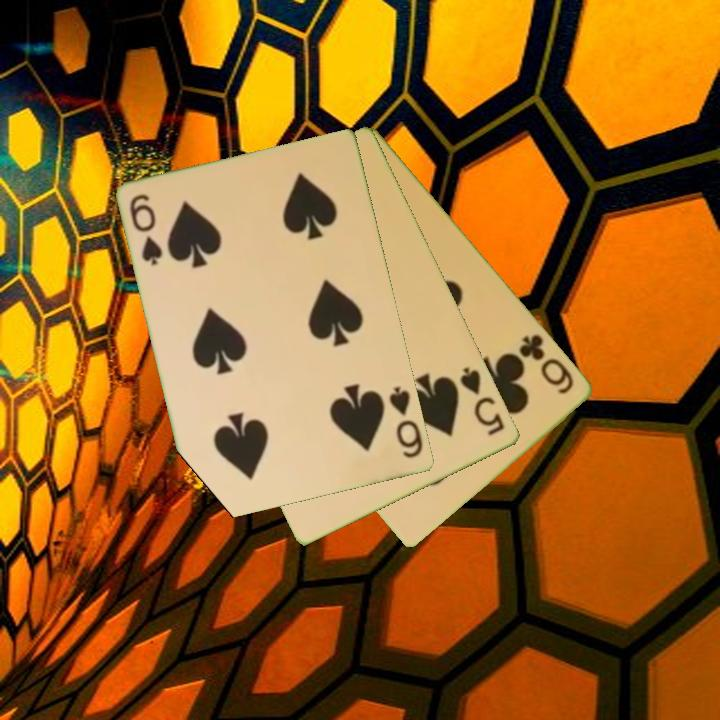5s: (457, 363, 508, 439)
6c: (516, 330, 578, 398)
6s: (385, 383, 426, 462), (127, 191, 166, 269)
